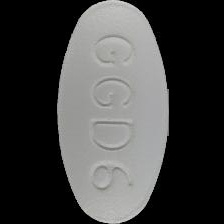68788-8939: (0, 0, 224, 224)
